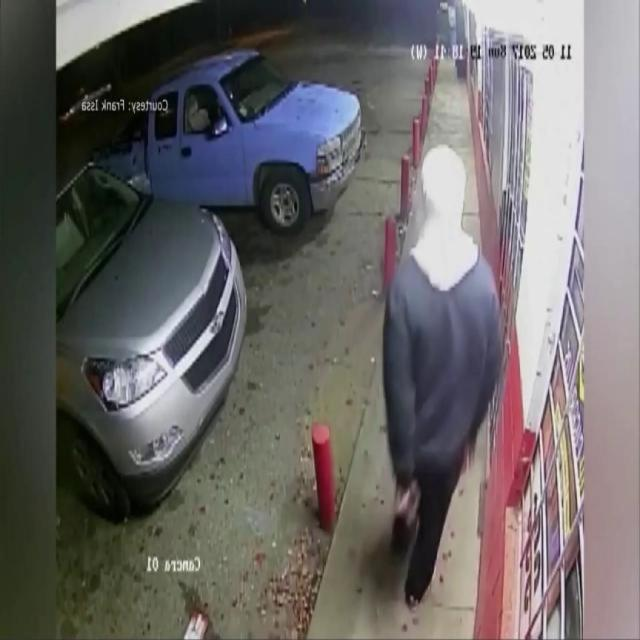pistol: (396, 480, 422, 534)
